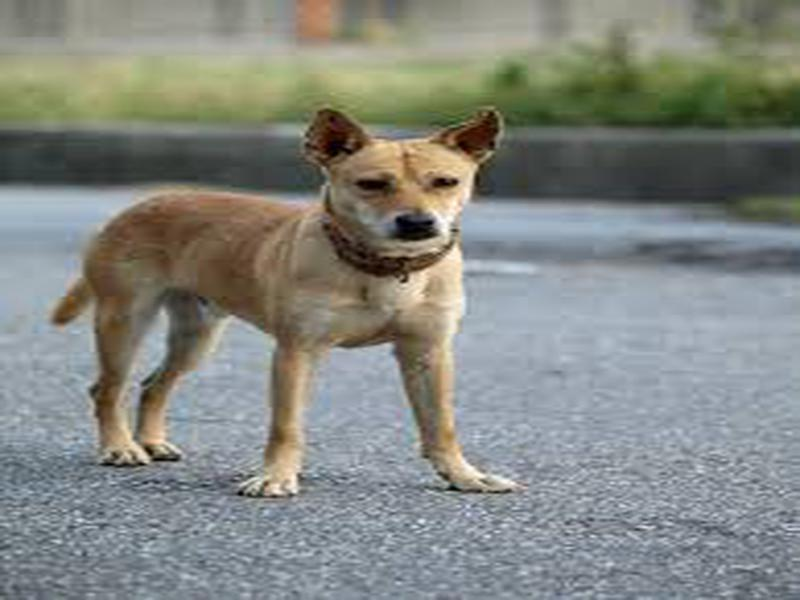dog_stand: (45, 101, 528, 502)
